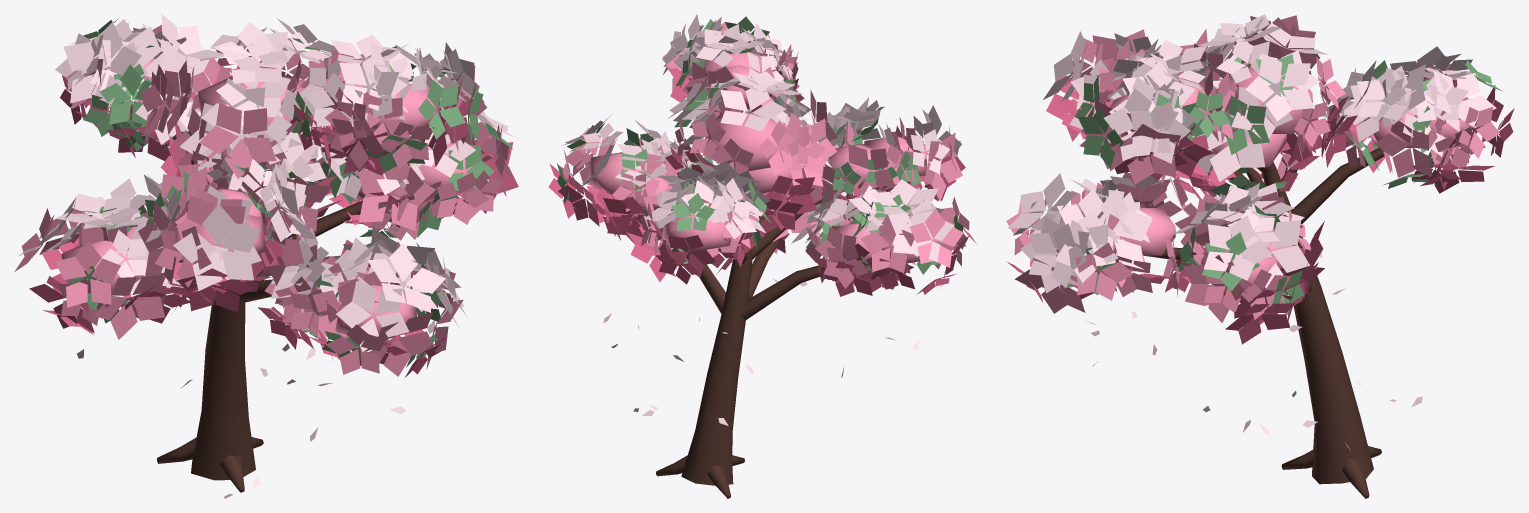
The model's file is sakura_tree_medium.glb.
3 views of the same model, side by side, from view 1: azimuth 30°, elevation 25°; view 2: azimuth 150°, elevation 25°; view 3: azimuth 270°, elevation 25° (orthographic). The views are drawn at different scales.
Visible parts, largest first — view 1: Sakura_Tree_Medium_Blossoms_Top, Sakura_Tree_Medium_Blossoms_Mid, Sakura_Tree_Medium_Blossoms_Deep, Sakura_Tree_Medium_Spring_Leaves, Sakura_Tree_Medium_Trunk, Sakura_Tree_Medium_CanopyCore; view 2: Sakura_Tree_Medium_Blossoms_Top, Sakura_Tree_Medium_Blossoms_Mid, Sakura_Tree_Medium_Blossoms_Deep, Sakura_Tree_Medium_Trunk, Sakura_Tree_Medium_CanopyCore, Sakura_Tree_Medium_Spring_Leaves; view 3: Sakura_Tree_Medium_Blossoms_Top, Sakura_Tree_Medium_Blossoms_Mid, Sakura_Tree_Medium_Blossoms_Deep, Sakura_Tree_Medium_Trunk, Sakura_Tree_Medium_Spring_Leaves, Sakura_Tree_Medium_CanopyCore.
Boxes of the visible parts, x1,y1,x2,y2 form: Sakura_Tree_Medium_Blossoms_Top: [19, 14, 518, 498]; Sakura_Tree_Medium_Blossoms_Mid: [14, 25, 512, 376]; Sakura_Tree_Medium_Blossoms_Deep: [29, 57, 518, 377]; Sakura_Tree_Medium_Spring_Leaves: [66, 18, 513, 367]; Sakura_Tree_Medium_Trunk: [157, 137, 362, 492]; Sakura_Tree_Medium_CanopyCore: [61, 58, 476, 334]; Sakura_Tree_Medium_Blossoms_Top: [561, 14, 961, 425]; Sakura_Tree_Medium_Blossoms_Mid: [562, 21, 976, 288]; Sakura_Tree_Medium_Blossoms_Deep: [548, 49, 969, 296]; Sakura_Tree_Medium_Trunk: [656, 110, 844, 498]; Sakura_Tree_Medium_CanopyCore: [587, 50, 940, 263]; Sakura_Tree_Medium_Spring_Leaves: [557, 16, 965, 274]; Sakura_Tree_Medium_Blossoms_Top: [1007, 14, 1496, 450]; Sakura_Tree_Medium_Blossoms_Mid: [1006, 15, 1499, 322]; Sakura_Tree_Medium_Blossoms_Deep: [1007, 71, 1514, 344]; Sakura_Tree_Medium_Trunk: [1114, 135, 1384, 498]; Sakura_Tree_Medium_Spring_Leaves: [1042, 53, 1502, 315]; Sakura_Tree_Medium_CanopyCore: [1056, 66, 1477, 290].
Size of the model in its own units: 6.59 by 6.03 by 6.13.
